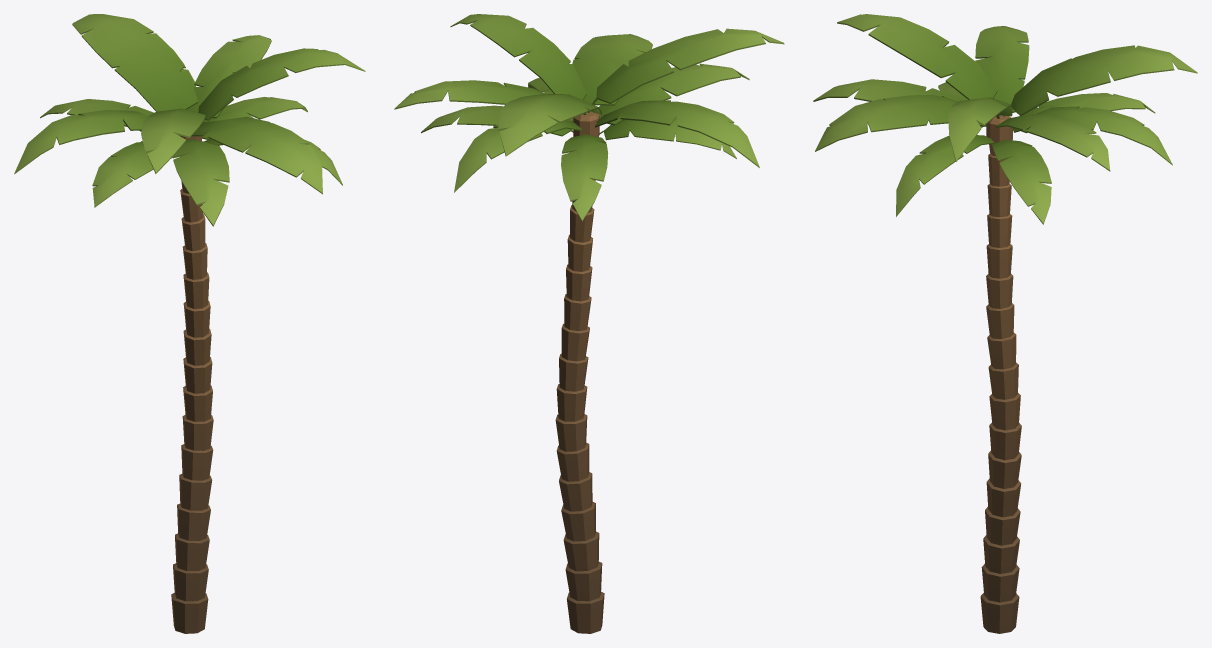
Rendered from PalmTree_01.fbx.
3 views of the same model, side by side, from view 1: azimuth 30°, elevation 25°; view 2: azimuth 150°, elevation 25°; view 3: azimuth 270°, elevation 25° (orthographic). The views are drawn at different scales.
Visible parts, largest first — view 1: PalmTree_01_LOD0; view 2: PalmTree_01_LOD0; view 3: PalmTree_01_LOD0.
Boxes of the visible parts, x1,y1,x2,y2 form: PalmTree_01_LOD0: [14, 14, 365, 633]; PalmTree_01_LOD0: [394, 14, 784, 633]; PalmTree_01_LOD0: [813, 14, 1197, 633].
Size of what is drawn, in the model's own units: 2.76 by 4.51 by 2.76.
